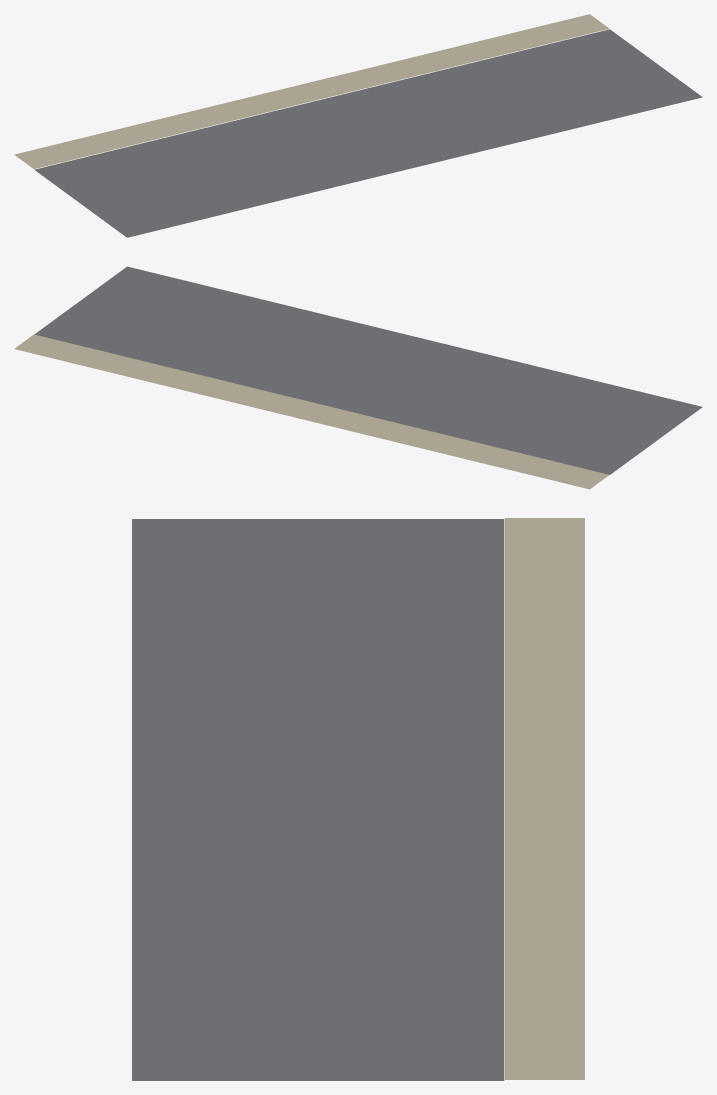
Rendered from ROAD_COASTAL_001_LOD_DISTANT_SILHOUETTE.glb.
3 renders of one model, top to bottom at view 1: azimuth 30°, elevation 25°; view 2: azimuth 150°, elevation 25°; view 3: azimuth 270°, elevation 25°, orthographic. The views are drawn at different scales.
Parts seen in each view (by area): view 1: ROAD_SURFACE_COASTAL_001_LOD3_EXPORT, ROAD_EDGE_COASTAL_001_01_LOD3_EXPORT; view 2: ROAD_SURFACE_COASTAL_001_LOD3_EXPORT, ROAD_EDGE_COASTAL_001_01_LOD3_EXPORT; view 3: ROAD_SURFACE_COASTAL_001_LOD3_EXPORT, ROAD_EDGE_COASTAL_001_01_LOD3_EXPORT.
Boxes of the visible parts, x1,y1,x2,y2 form: ROAD_SURFACE_COASTAL_001_LOD3_EXPORT: [34, 29, 702, 237]; ROAD_EDGE_COASTAL_001_01_LOD3_EXPORT: [14, 14, 609, 168]; ROAD_SURFACE_COASTAL_001_LOD3_EXPORT: [34, 266, 702, 474]; ROAD_EDGE_COASTAL_001_01_LOD3_EXPORT: [14, 334, 608, 489]; ROAD_SURFACE_COASTAL_001_LOD3_EXPORT: [132, 519, 504, 1080]; ROAD_EDGE_COASTAL_001_01_LOD3_EXPORT: [505, 518, 584, 1079].
Bounding box in the file's own units: 3.4 × 0.002 × 1.16.
